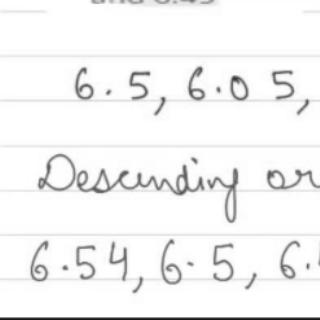.: (102, 88, 113, 97), (185, 260, 196, 269), (61, 264, 71, 272), (215, 84, 221, 94)
0: (228, 74, 251, 101)
4: (107, 239, 131, 283)
5: (211, 240, 236, 283), (72, 244, 99, 281), (126, 67, 152, 101), (270, 70, 293, 99)
6: (156, 239, 184, 286), (26, 239, 51, 283), (280, 239, 301, 279), (185, 64, 208, 100), (72, 65, 94, 101)
